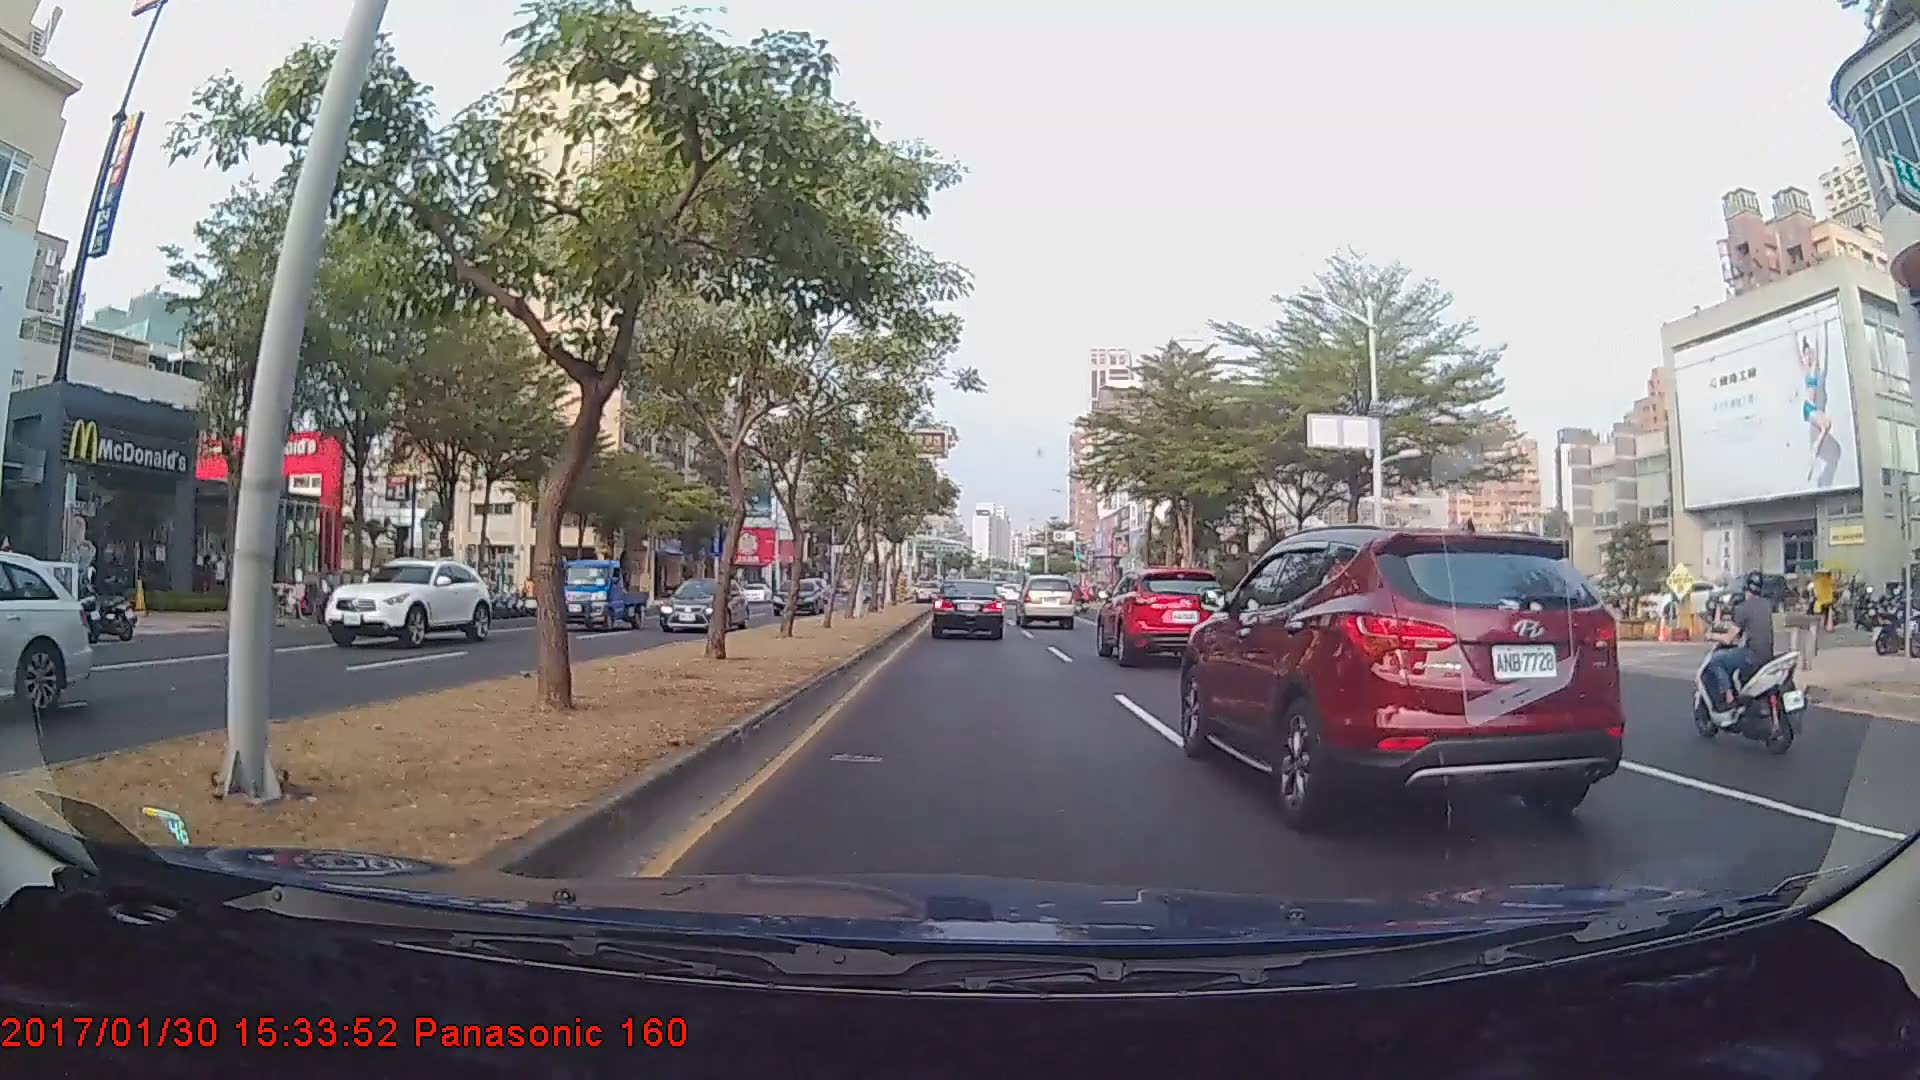rider: (1692, 566, 1814, 759)
vehicle: (1194, 523, 1613, 813), (0, 547, 95, 731), (319, 555, 493, 647), (1093, 564, 1230, 667), (552, 558, 650, 631), (658, 576, 748, 633), (931, 577, 1005, 639), (1017, 574, 1075, 629), (772, 576, 825, 616)
